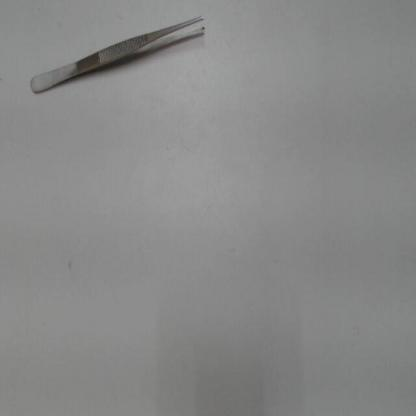Gillies Toothed Dissector: (21, 8, 207, 107)
